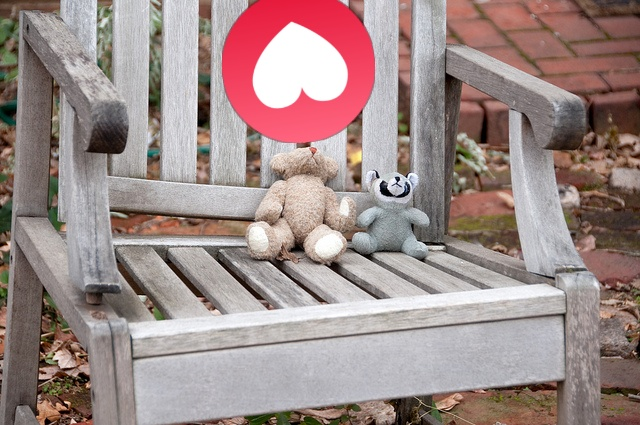love: (222, 0, 375, 143)
